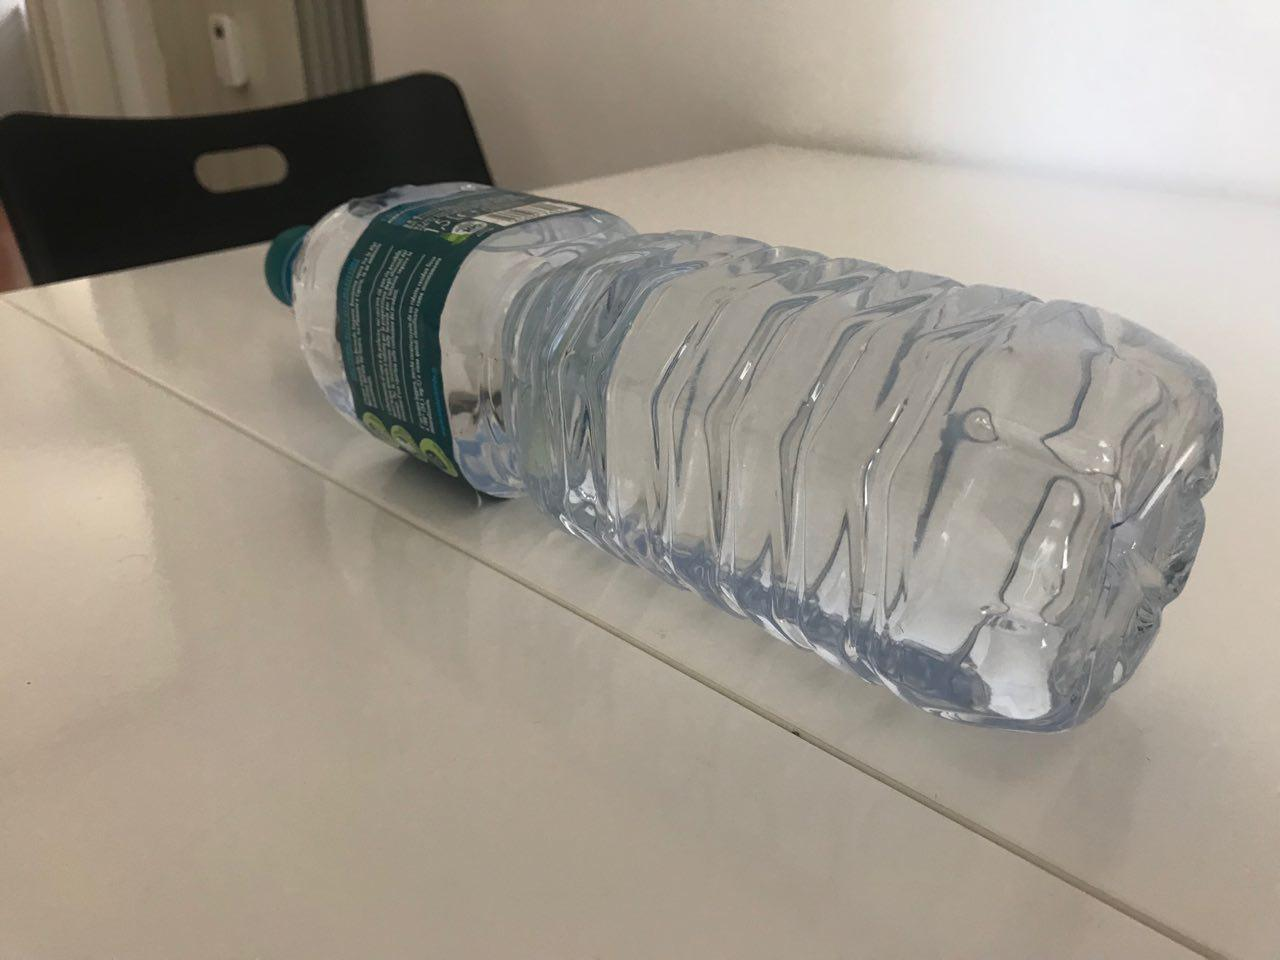san_bernardo: (263, 179, 1225, 736)
